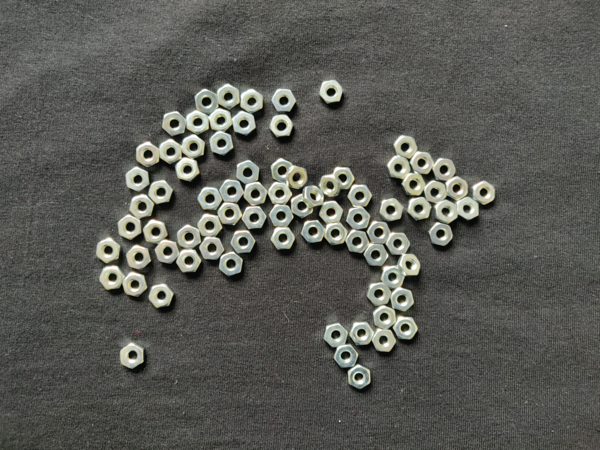nut: (120, 343, 146, 370), (122, 272, 148, 298), (126, 245, 152, 271), (100, 266, 126, 291), (143, 220, 168, 245), (177, 225, 202, 250), (218, 252, 243, 277), (367, 282, 392, 307), (96, 238, 120, 264), (149, 284, 175, 308), (130, 194, 154, 220), (126, 167, 150, 193), (136, 141, 160, 167), (199, 237, 225, 261), (428, 223, 454, 247), (118, 216, 142, 241), (155, 240, 180, 264), (148, 181, 173, 205), (162, 112, 186, 137), (195, 89, 219, 114), (210, 131, 234, 156), (176, 249, 201, 273), (231, 230, 256, 254), (301, 220, 326, 244), (319, 200, 344, 224), (334, 344, 358, 369), (324, 323, 348, 348), (346, 206, 371, 230), (367, 221, 392, 245), (217, 84, 240, 110), (347, 185, 373, 208), (209, 108, 233, 132), (244, 182, 268, 206), (346, 230, 370, 254), (350, 322, 374, 346), (373, 306, 397, 330), (380, 199, 404, 223), (394, 135, 418, 159), (176, 158, 199, 183), (182, 135, 205, 160), (186, 111, 209, 136), (233, 111, 256, 136), (240, 89, 263, 114), (272, 89, 297, 112), (198, 214, 223, 237), (198, 187, 223, 210), (218, 203, 243, 226), (242, 206, 267, 229), (268, 183, 293, 206), (393, 317, 418, 340), (381, 266, 406, 289), (364, 244, 389, 267), (407, 198, 432, 221), (160, 139, 182, 165), (349, 364, 371, 390), (270, 115, 294, 138), (320, 80, 343, 104), (220, 180, 244, 203), (271, 227, 295, 250), (270, 205, 294, 228), (324, 223, 348, 246), (391, 288, 414, 312), (398, 254, 421, 278), (388, 156, 411, 180), (402, 173, 426, 196), (410, 151, 434, 174), (433, 158, 457, 181), (424, 181, 448, 204), (435, 200, 458, 224), (446, 177, 469, 201), (457, 197, 480, 221), (271, 158, 293, 183), (386, 233, 411, 255), (237, 161, 260, 184), (320, 174, 343, 197), (333, 167, 356, 190), (372, 330, 396, 352), (474, 181, 496, 205), (292, 194, 313, 219), (286, 166, 308, 189), (303, 187, 324, 209)
